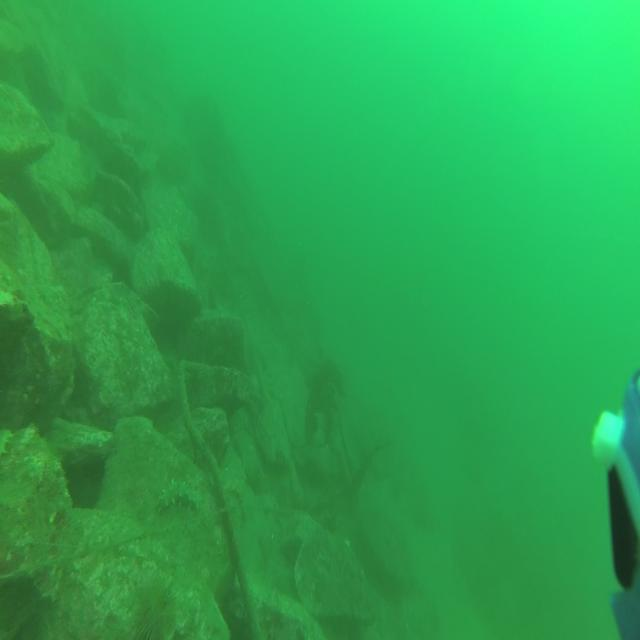echinus: (132, 575, 177, 639)
holothurian: (155, 475, 204, 521)
